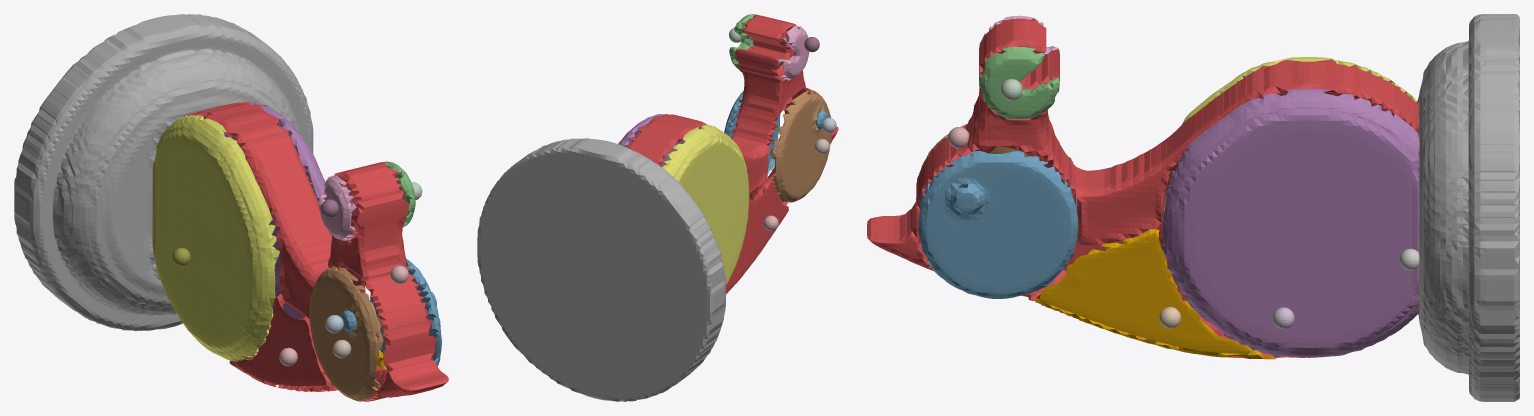
The model's file is ours.glb.
3 renders of one model, left to right at view 1: azimuth 30°, elevation 25°; view 2: azimuth 150°, elevation 25°; view 3: azimuth 270°, elevation 25°, orthographic. The views are drawn at different scales.
Parts seen in each view (by area): view 1: g8, g0, g5, g6, g9, g3, g7, g1, g2, g10; view 2: g8, g0, g5, g6, g9, g7, g1, g2, g3, g10; view 3: g3, g8, g0, g1, g4, g2, g5, g9.
Part boxes in pixels (x1,y1,x2,y2): g8: (14, 14, 313, 331); g0: (183, 102, 448, 401); g5: (152, 115, 279, 361); g6: (309, 266, 383, 401); g9: (229, 294, 331, 389); g3: (224, 101, 325, 319); g7: (319, 175, 356, 241); g1: (369, 258, 441, 366); g2: (385, 161, 422, 227); g10: (325, 310, 356, 333); g8: (477, 138, 725, 401); g0: (627, 14, 838, 205); g5: (662, 125, 749, 285); g6: (770, 90, 831, 202); g9: (726, 181, 788, 294); g7: (777, 25, 819, 79); g1: (724, 91, 780, 176); g2: (729, 14, 754, 69); g3: (618, 114, 683, 167); g10: (816, 110, 836, 132); g3: (1161, 88, 1419, 357); g8: (1399, 14, 1519, 401); g0: (867, 18, 1419, 358); g1: (918, 150, 1078, 298); g4: (1035, 229, 1276, 359); g2: (979, 46, 1059, 119); g5: (1163, 57, 1416, 214); g9: (1063, 215, 1187, 301).
Bounding box in the file's own units: 1.12 × 1.14 × 1.9.
